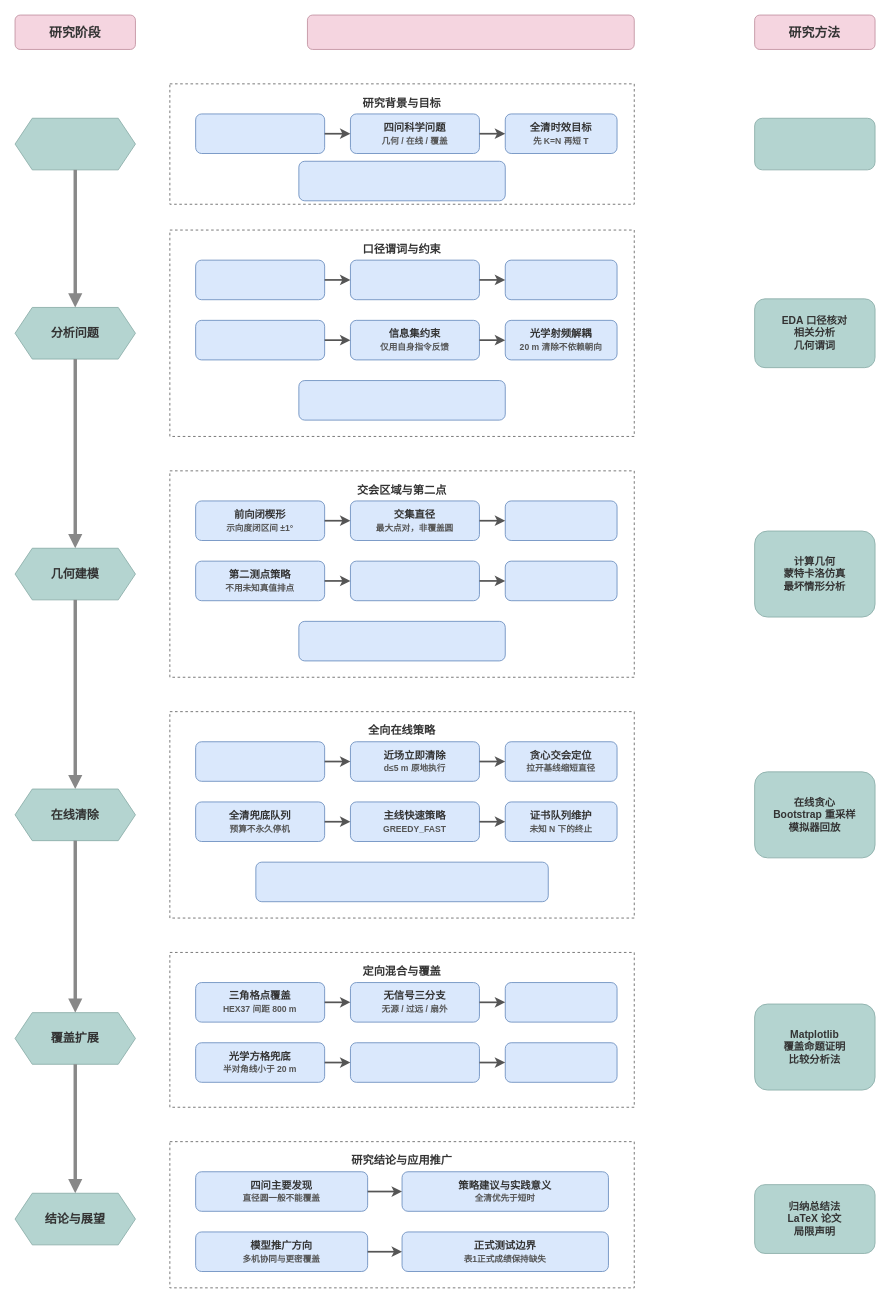
This 890x1303 diagram has some shape labels left out. The centre of each missing label's shape, as x and y in pixels:
"交会模块封装 供问题3/4直接调用" goes at point 401,640.
"候选指标构建 最坏点误差充分条件" goes at point 414,580.
"半径不确定性 r_i 区间不等式" goes at point 560,580.
"协议时间模型 移动 + 测向 + 切换" goes at point 260,339.
"同站频道扫描 避免反复往返" goes at point 260,761.
"在线未知N与朝向 正式测试不返回 N" goes at point 401,180.
"提出问题" goes at point 74,143.
"文献综述法 测向交会文献" goes at point 814,143.
"研究内容" goes at point 470,31.
"符号与坐标系 东 x 北 y，单位米" goes at point 414,279.
"策略对照检验 FAST / GREEDY / ABORT" goes at point 401,881.
"累计楔形定位 全部 direction 进入交集" goes at point 560,1002.
"覆盖圆反例 等边三角形 Jung 圆" goes at point 560,520.
"观测三值语义 方向 / 近场 / 无信号" goes at point 560,279.
"跨问模块复用 交会与第二点下沉" goes at point 401,400.
"配对离线验证 同种子对照网格" goes at point 560,1062.
"频谱管理背景 干扰源定位与清除" goes at point 260,133.
"频道判空证书 覆盖点全部无信号" goes at point 414,1062.
"题意台账冻结 104 条源单元" goes at point 260,279.
